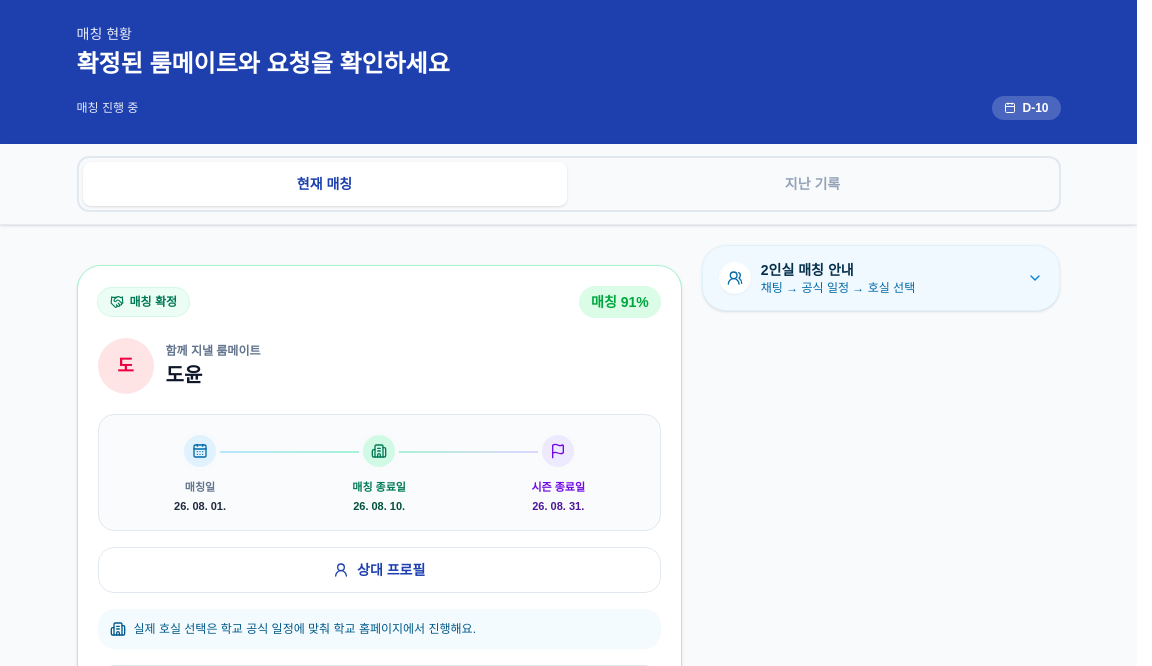
it: MatchingTab canonical runtime › active result-read가 tombstone이면 full detail 대신 최소 결과만 표시한다
The image size is (1152, 666).
Click the button named "도윤 프로필 상세 보기". click: [379, 570]
box: [98, 546, 661, 592]
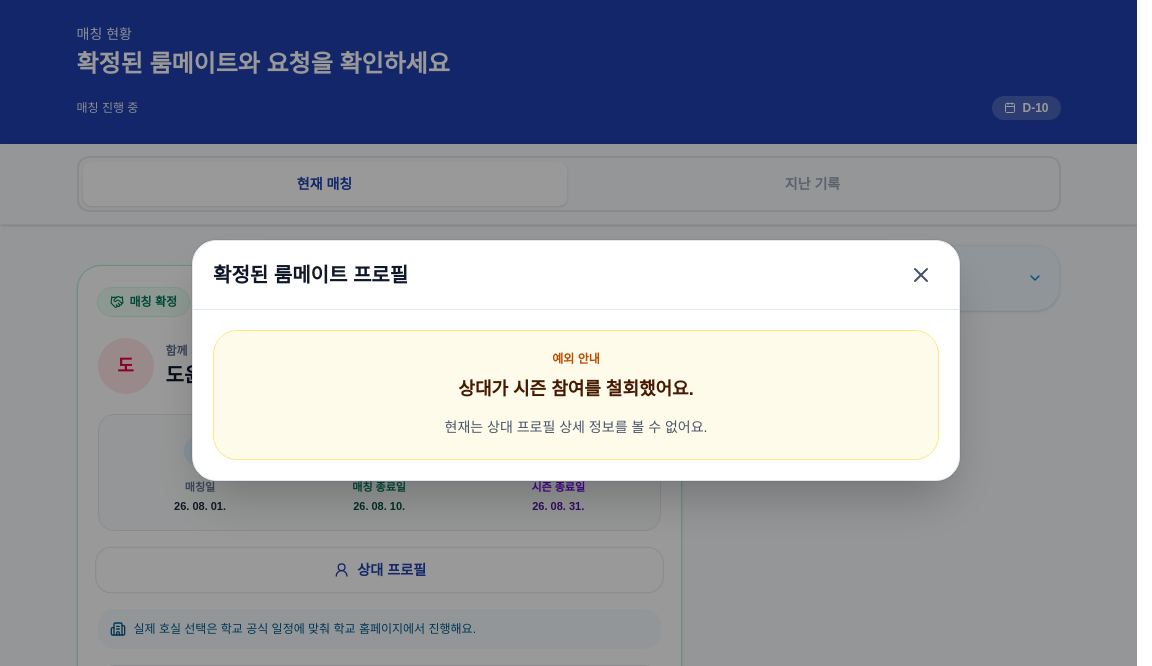
Expected: the heading "상대가 시즌 참여를 철회했어요." is shown, [458, 378, 694, 398]
